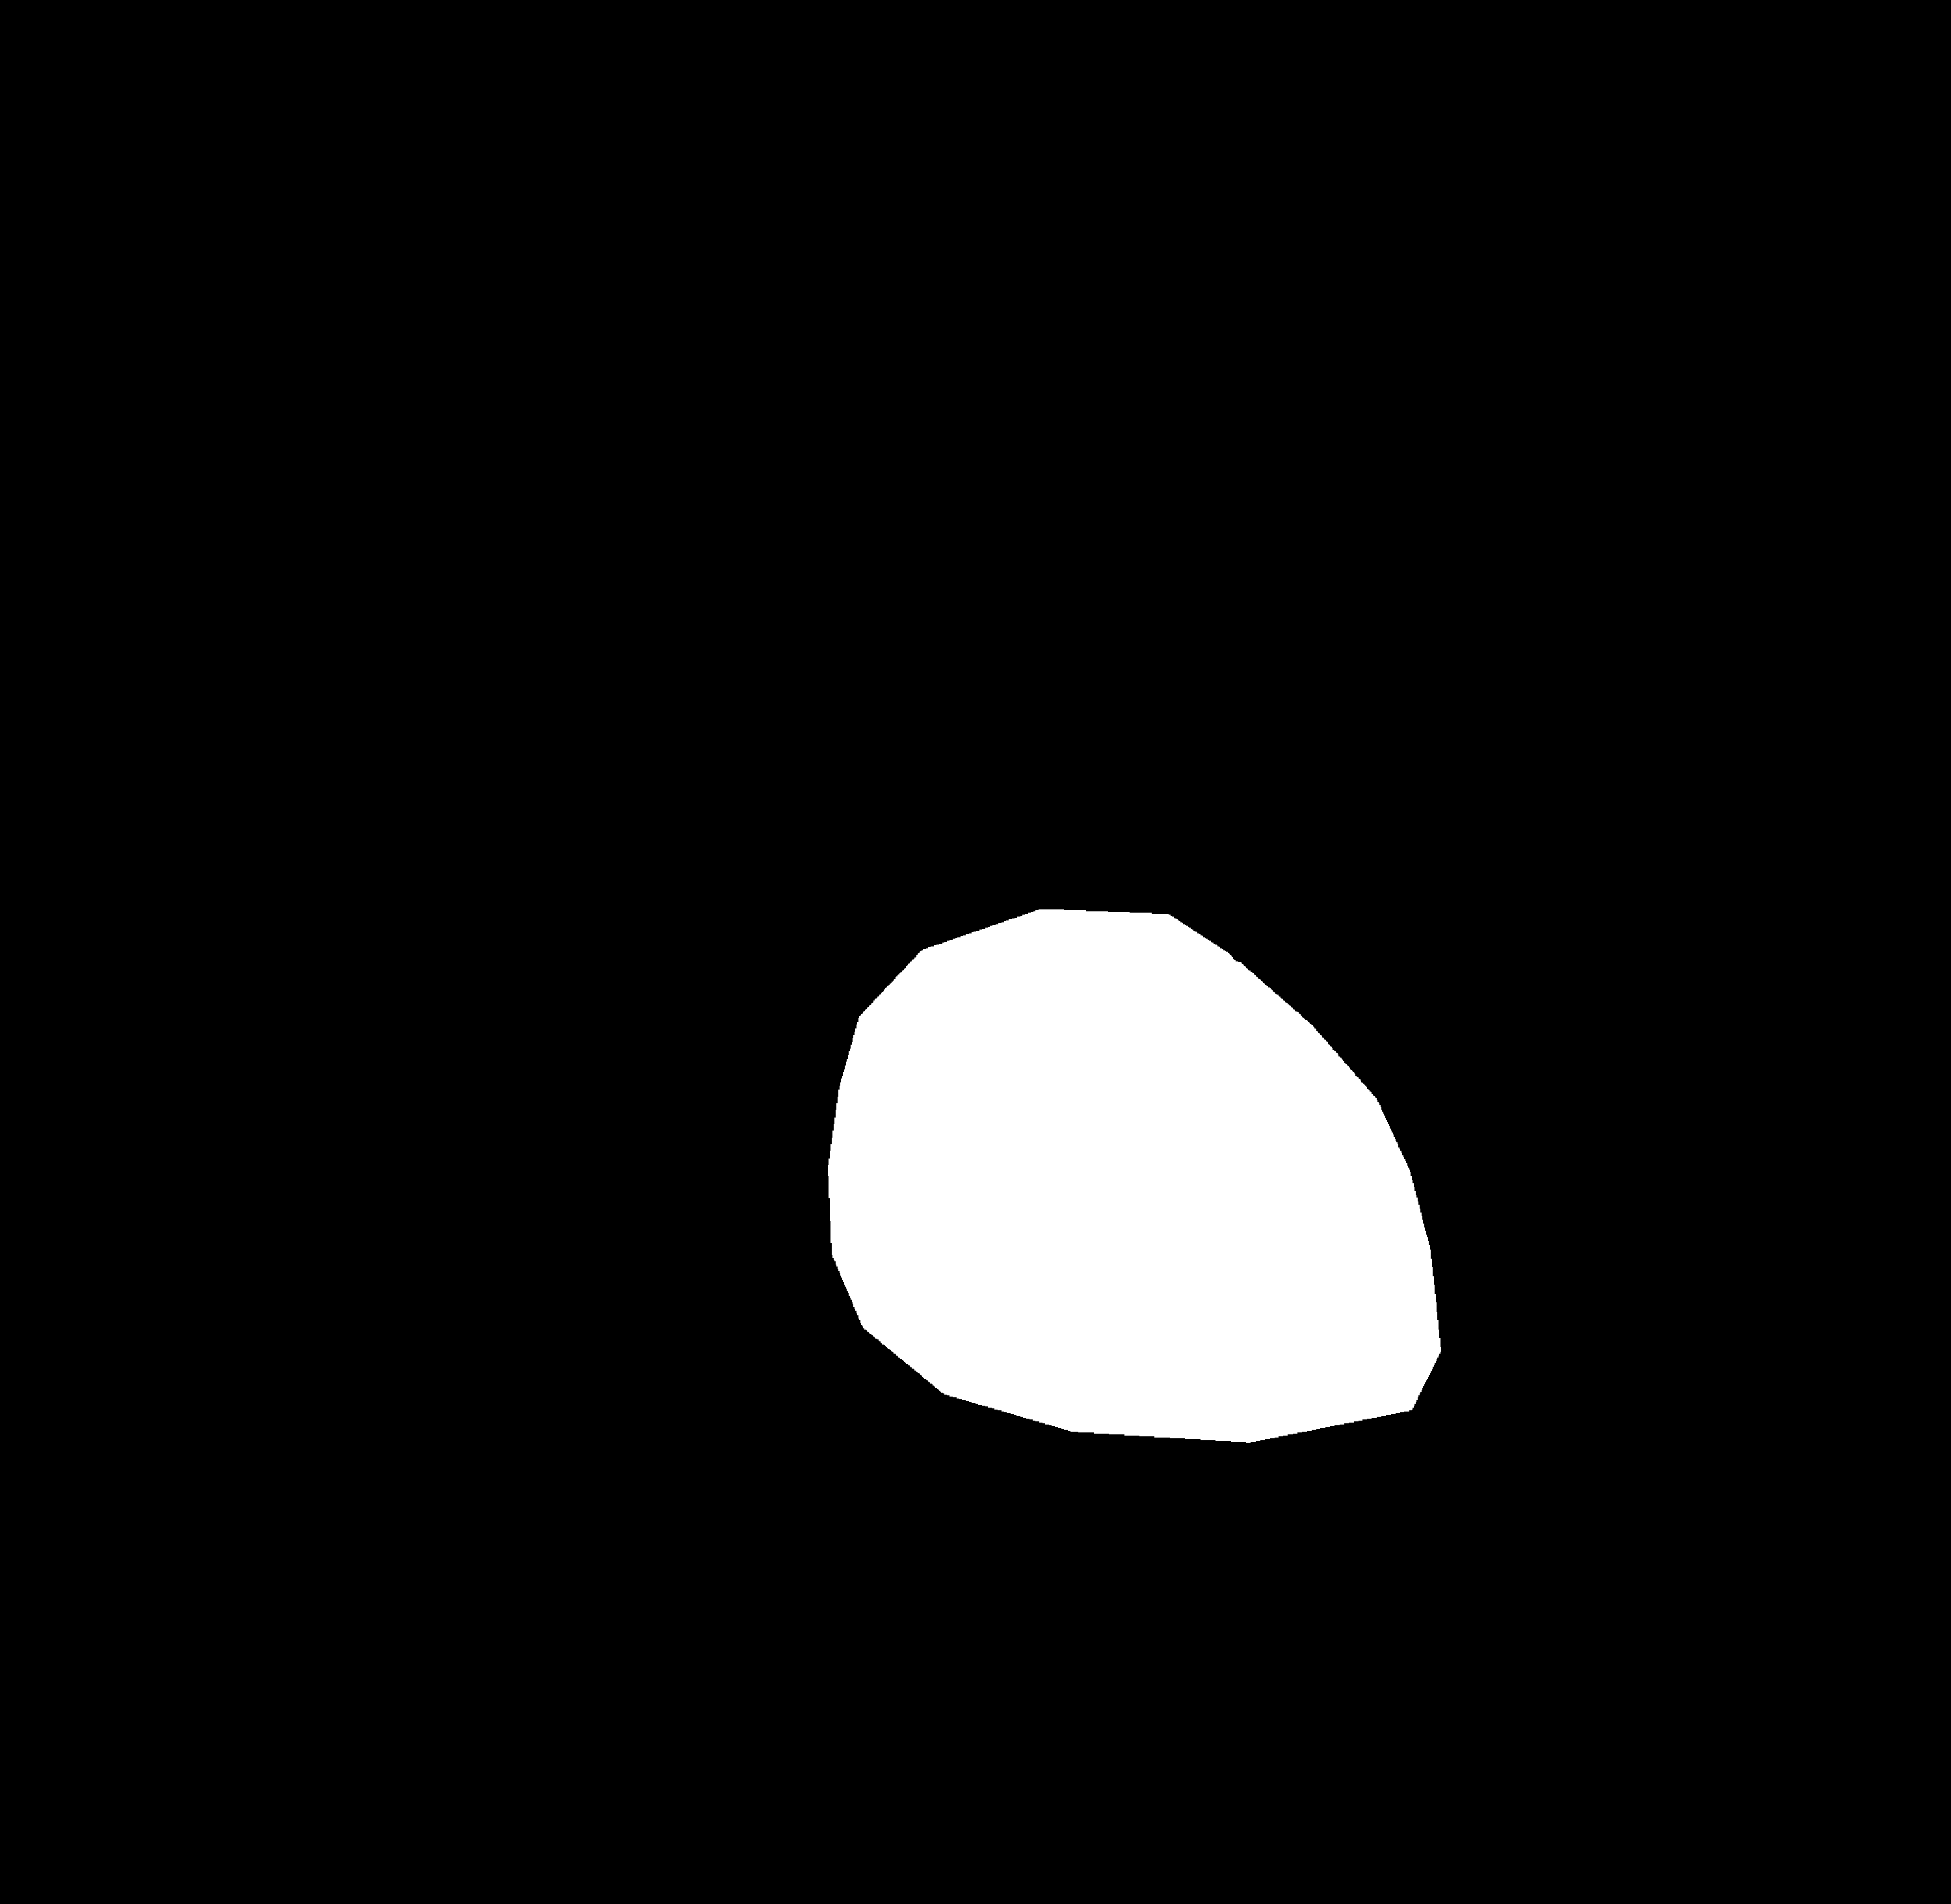heart: (828, 987, 1449, 1473)
left_lung: (387, 340, 898, 1547)
right_lung: (1032, 345, 1590, 1510)
